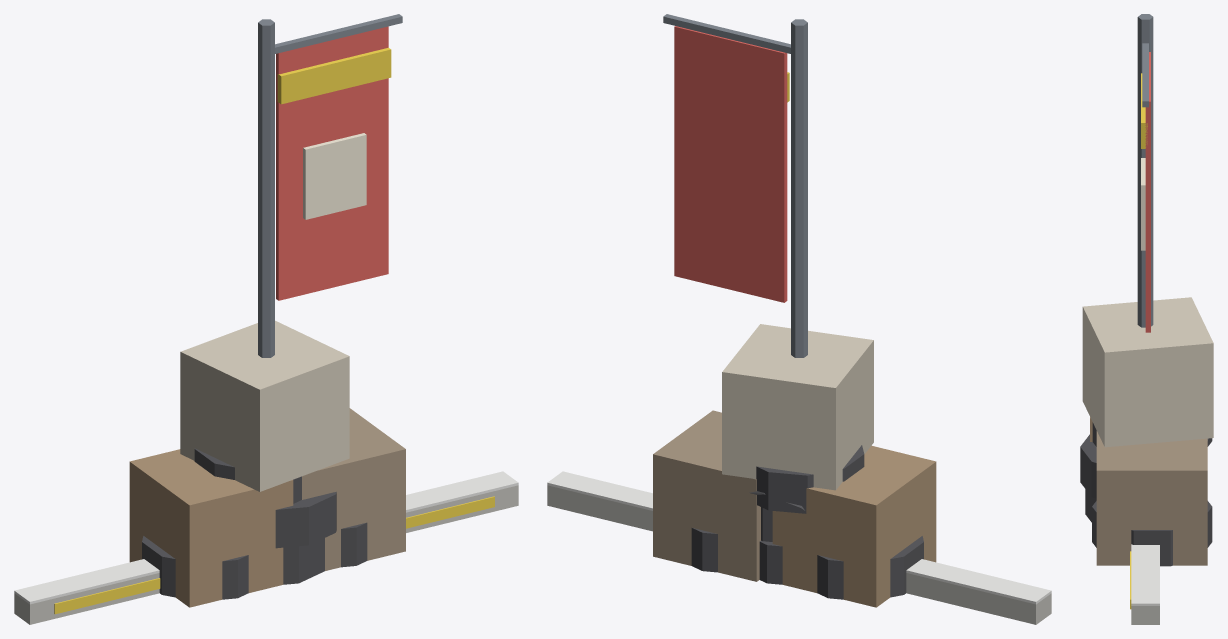
Rendered from common_props_kit.glb.
3 renders of one model, left to right at view 1: azimuth 30°, elevation 25°; view 2: azimuth 150°, elevation 25°; view 3: azimuth 270°, elevation 25°, orthographic. The views are drawn at different scales.
Visible parts, largest first — view 1: cp_crate_stack, cp_banner_flag, cp_kerb, cp_tyre_stack, cp_tyre_pair; view 2: cp_crate_stack, cp_banner_flag, cp_kerb, cp_tyre_stack, cp_tyre_pair; view 3: cp_crate_stack, cp_banner_flag, cp_kerb, cp_tyre_pair, cp_tyre_stack.
Part boxes in pixels (left/top/right/bottom): cp_crate_stack: left=129, top=320, right=405, bottom=607; cp_banner_flag: left=258, top=14, right=402, bottom=357; cp_kerb: left=14, top=471, right=518, bottom=624; cp_tyre_stack: left=194, top=448, right=336, bottom=584; cp_tyre_pair: left=142, top=522, right=367, bottom=599; cp_crate_stack: left=653, top=324, right=936, bottom=607; cp_banner_flag: left=663, top=14, right=807, bottom=357; cp_kerb: left=547, top=471, right=1051, bottom=624; cp_tyre_stack: left=756, top=445, right=864, bottom=584; cp_tyre_pair: left=691, top=491, right=923, bottom=599; cp_crate_stack: left=1082, top=297, right=1213, bottom=565; cp_banner_flag: left=1137, top=14, right=1153, bottom=332; cp_kerb: left=1130, top=544, right=1159, bottom=624; cp_tyre_pair: left=1092, top=438, right=1212, bottom=566; cp_tyre_stack: left=1080, top=422, right=1212, bottom=522.
Size of the model in its own units: 4 by 4.21 by 1.02.
